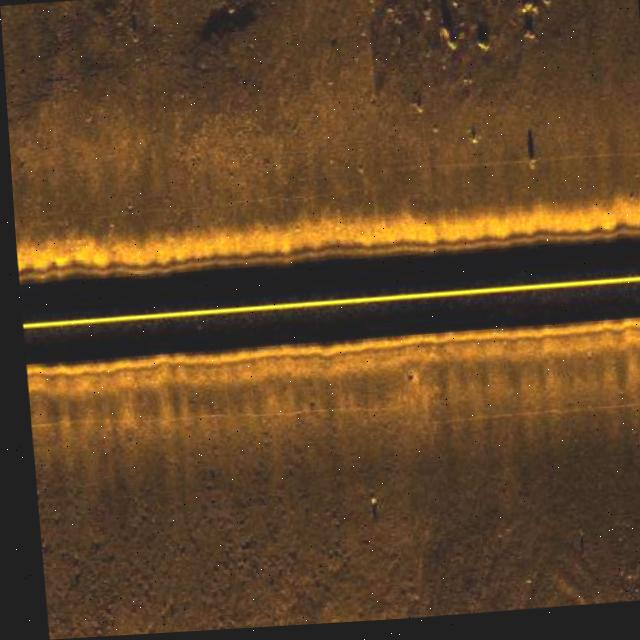other: (395, 367, 412, 384)
